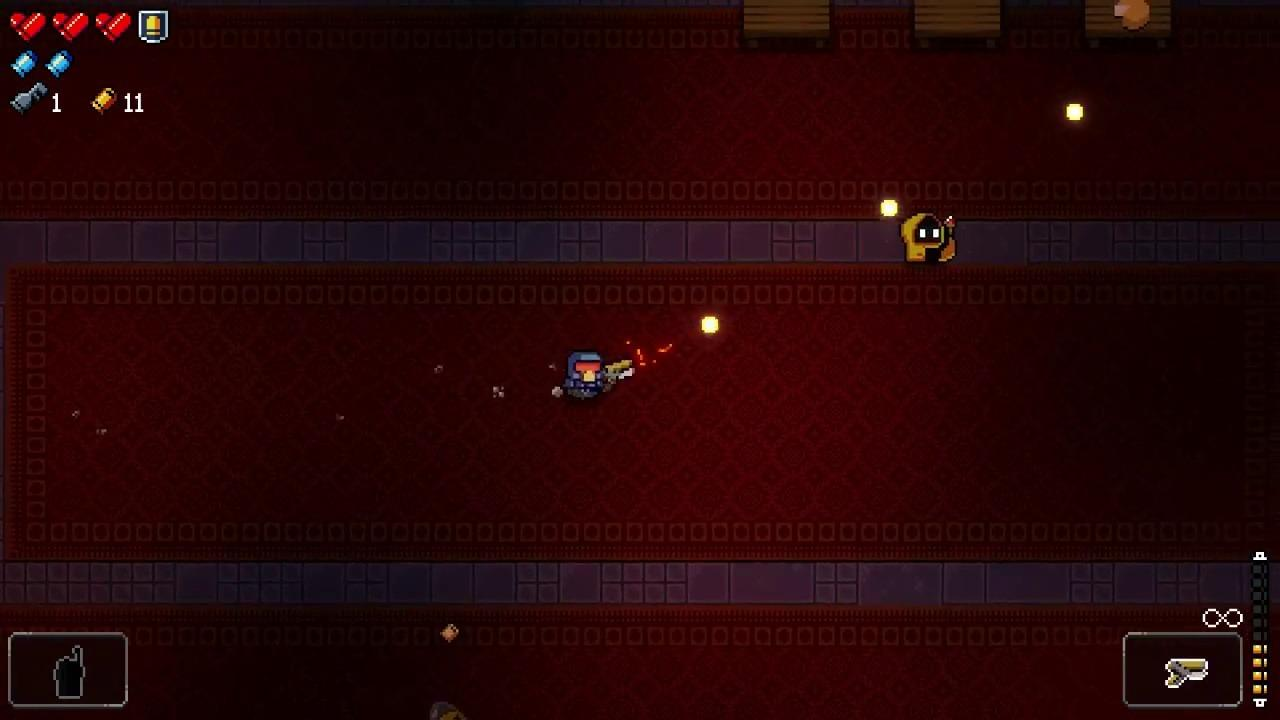apprentice_gunjurer: (900, 213, 949, 264)
player: (569, 351, 603, 399)
table: (743, 0, 830, 49), (1085, 0, 1170, 49), (915, 0, 1000, 47)
